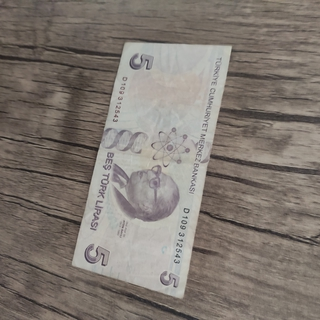5TLBack: (70, 40, 233, 301)
